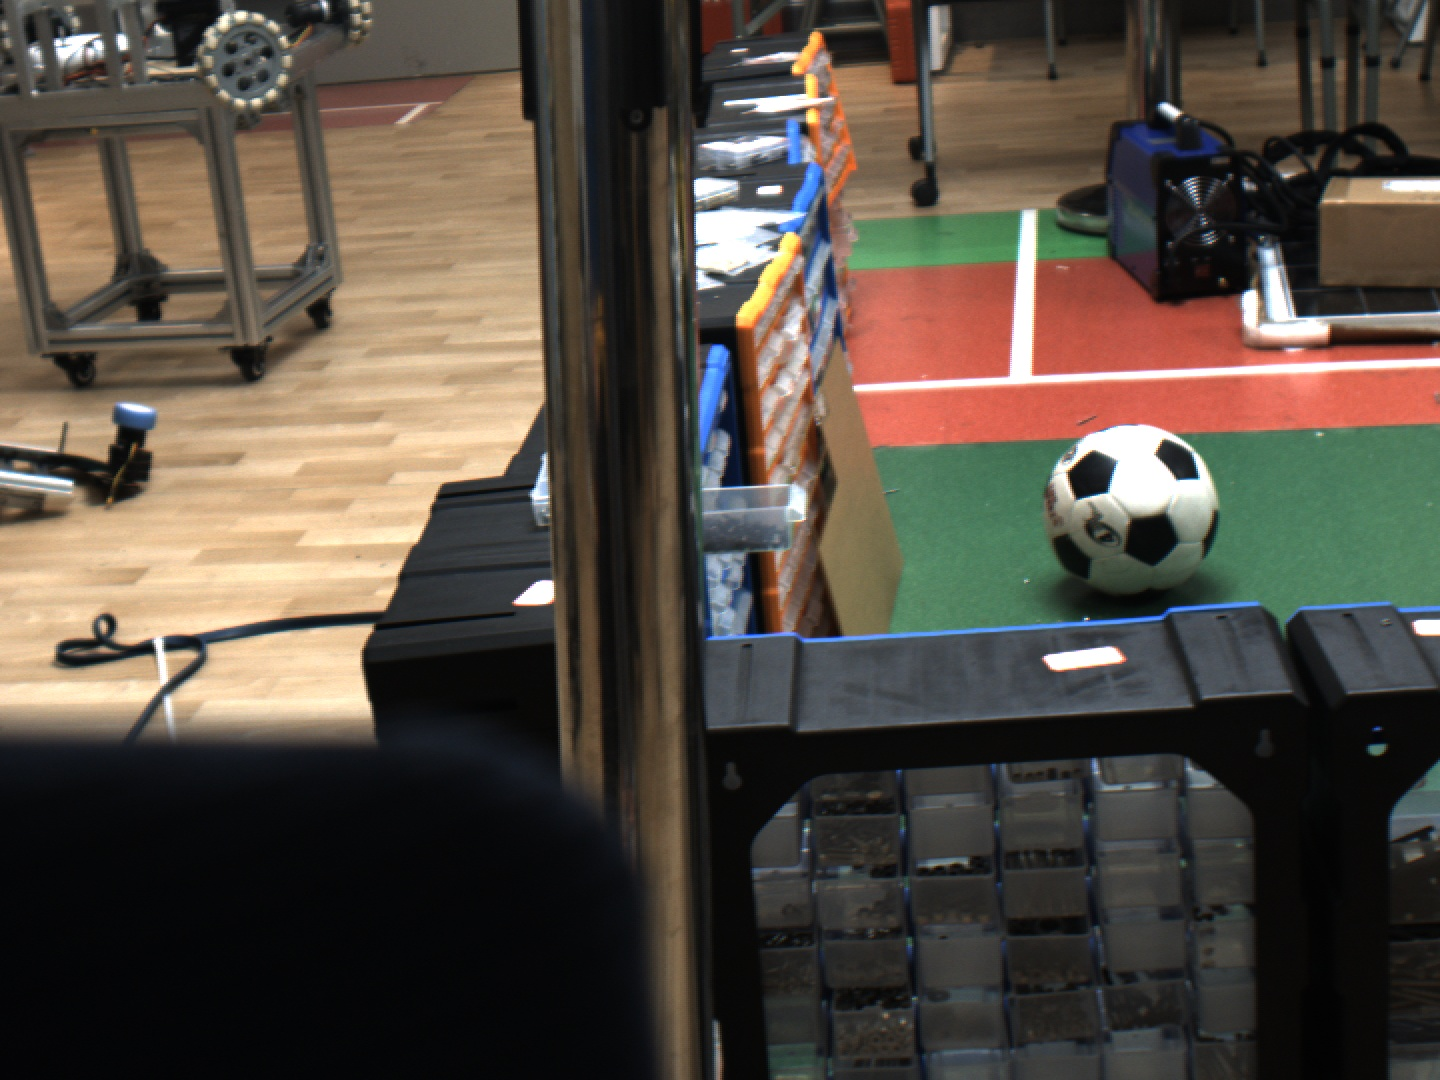ball: (1018, 410, 1233, 602)
